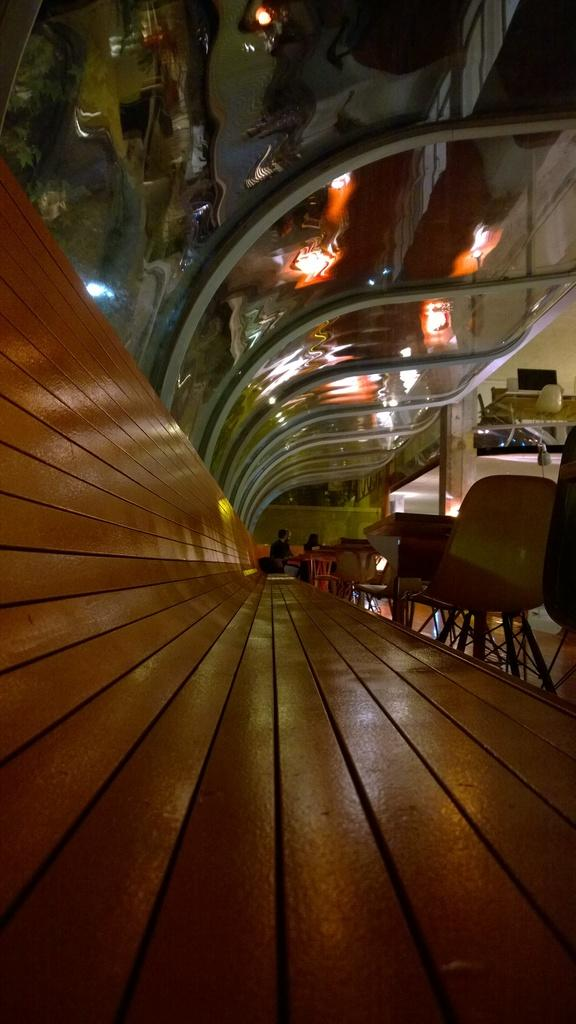Chair: (412, 453, 559, 682), (534, 435, 575, 714), (354, 531, 408, 620)
